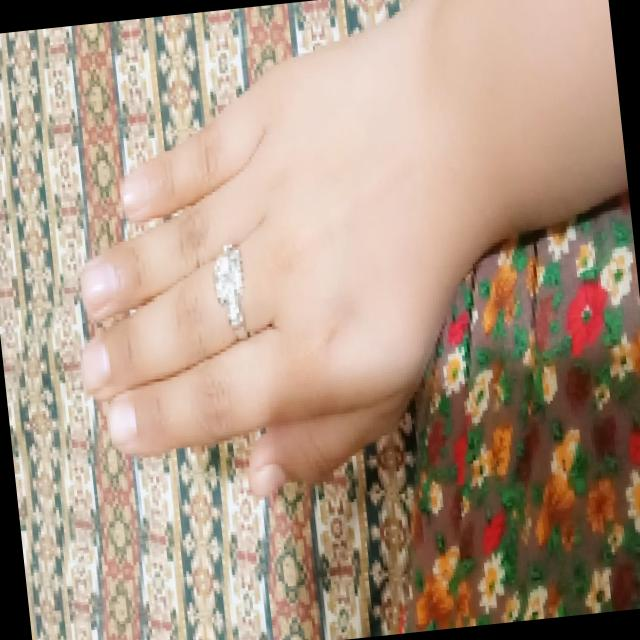Nail: (80, 260, 119, 314), (81, 340, 111, 389), (107, 399, 136, 441), (249, 462, 286, 494), (120, 171, 148, 212)
